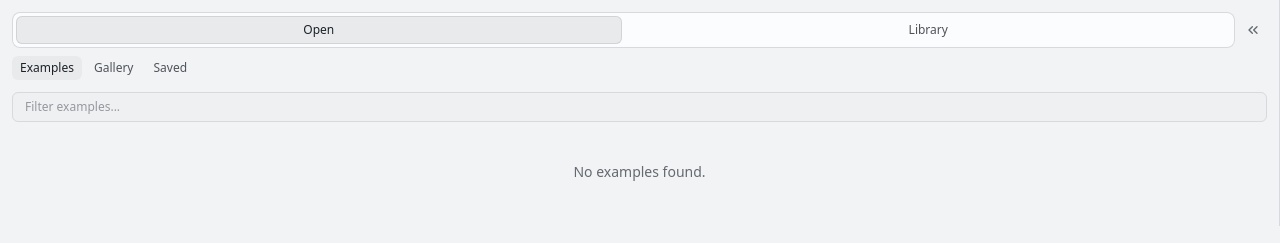
it: LeftSidebar community gallery › says why the catalogue is unavailable
Click the button titled "Community designs". click: click(114, 68)
box: [86,56,142,80]
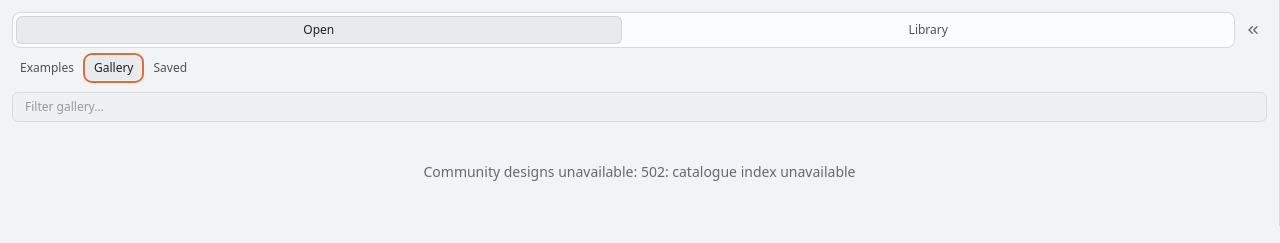
Expected: the text "catalogue index unavailable" is shown, [641,162,856,181]
